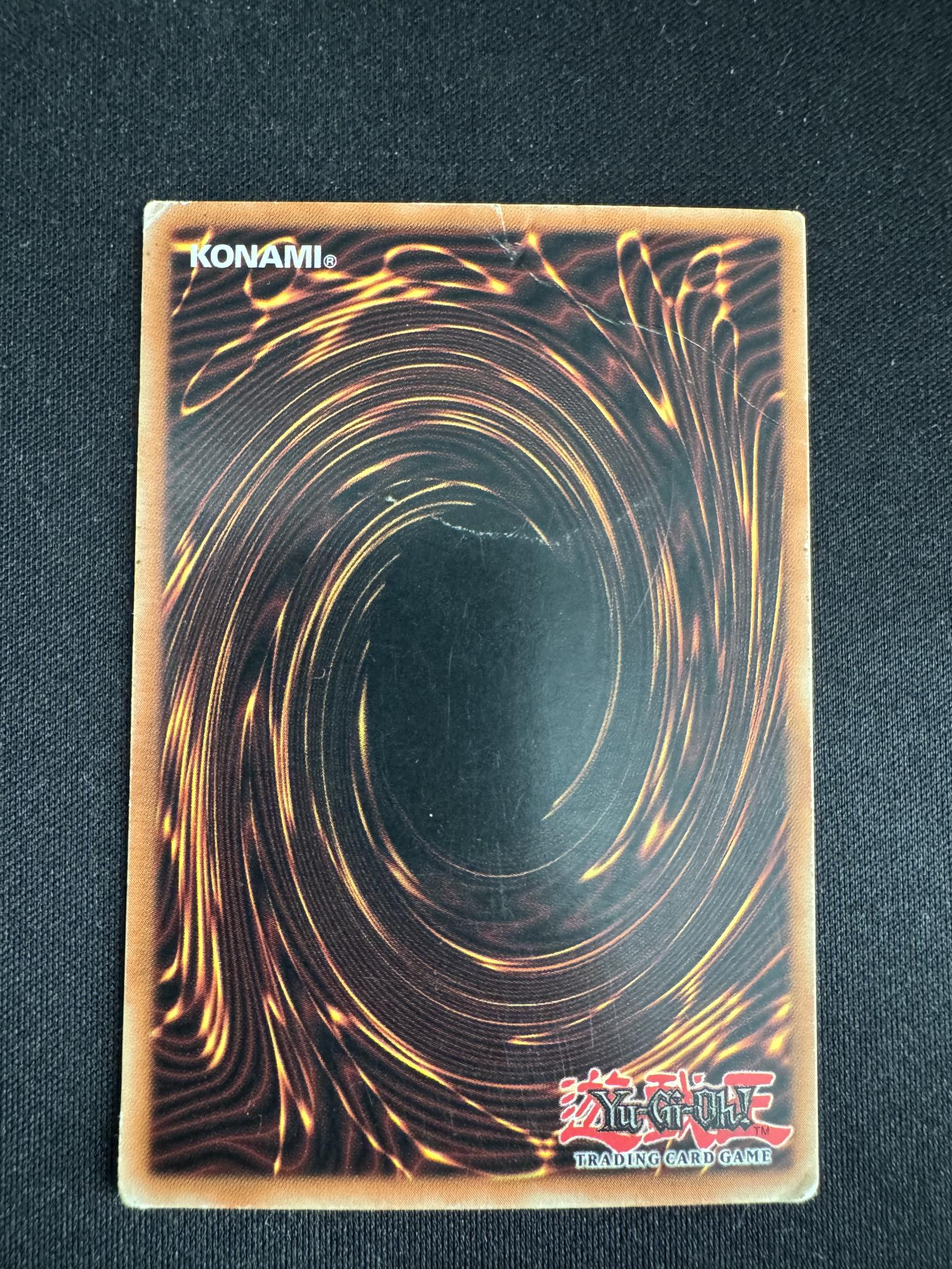card-2UtV: (117, 199, 819, 1210)
